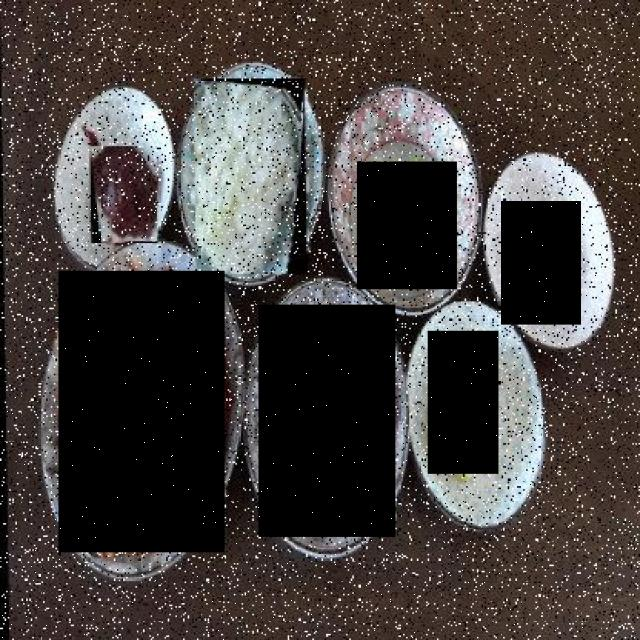Onion_Leaves: (357, 162, 457, 289)
Pork: (258, 305, 396, 537)
Sugar: (501, 200, 581, 325)
Tofu: (428, 331, 498, 474)
kimchi: (58, 271, 225, 552)
